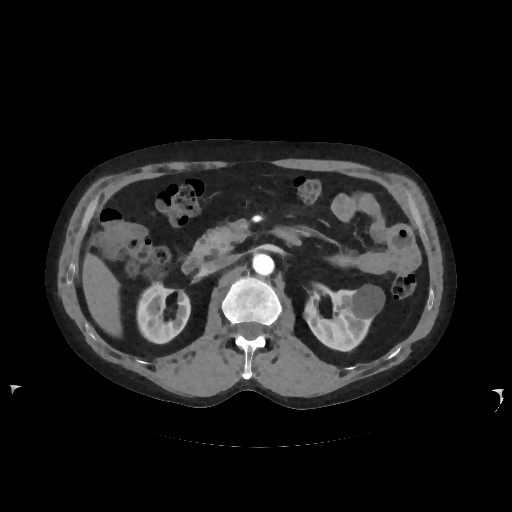Lesion: (348, 279, 387, 321)
